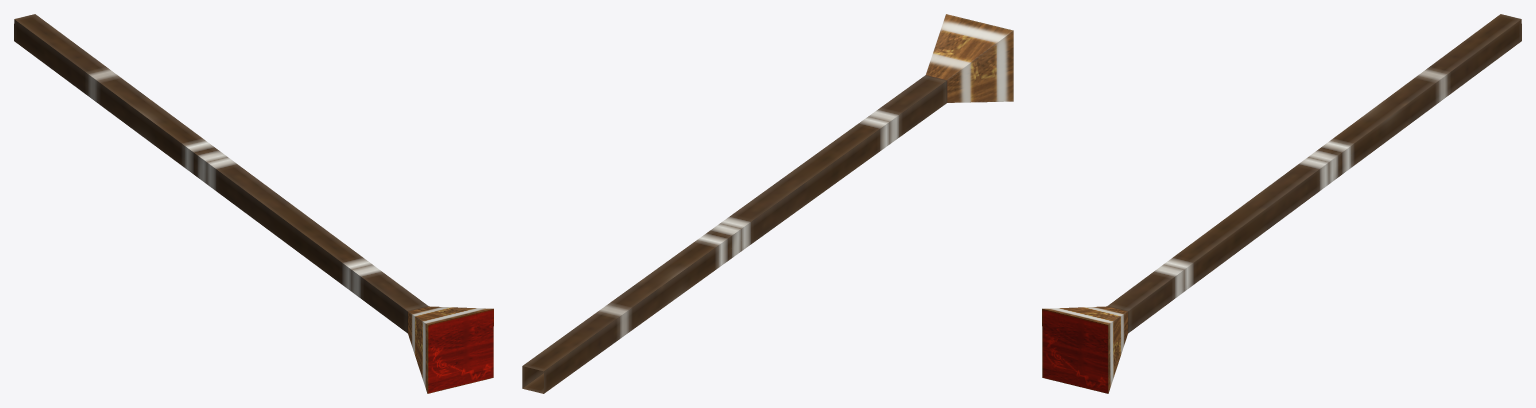
File: rally.gltf
3 renders of one model, left to right at view 1: azimuth 30°, elevation 25°; view 2: azimuth 150°, elevation 25°; view 3: azimuth 330°, elevation 25°, orthographic. The views are drawn at different scales.
Visible parts, largest first — view 1: Box01; view 2: Box01; view 3: Box01.
Boxes of the visible parts, x1,y1,x2,y2 form: Box01: [14, 14, 493, 393]; Box01: [522, 14, 1013, 393]; Box01: [1042, 14, 1521, 393].
Size of the model in its own units: 2.8 by 2.8 by 31.97.
1 material, 1 textured.
